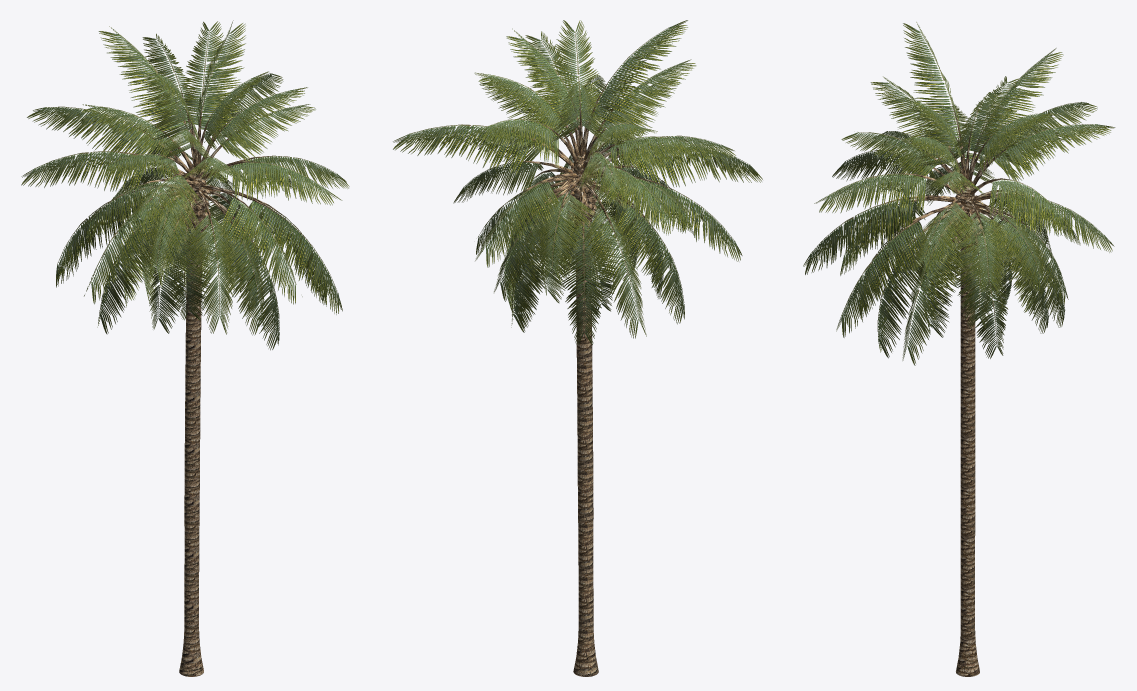
The model's file is Palm_1_1.fbx.
3 renders of one model, left to right at view 1: azimuth 30°, elevation 25°; view 2: azimuth 150°, elevation 25°; view 3: azimuth 270°, elevation 25°, orthographic. The views are drawn at different scales.
Parts seen in each view (by area): view 1: Palm_1_1; view 2: Palm_1_1; view 3: Palm_1_1.
Part boxes in pixels (x1,y1,x2,y2): Palm_1_1: (21,20,349,676); Palm_1_1: (393,20,762,676); Palm_1_1: (803,22,1115,676).
Bounding box in the file's own units: 619 × 1321 × 626.
